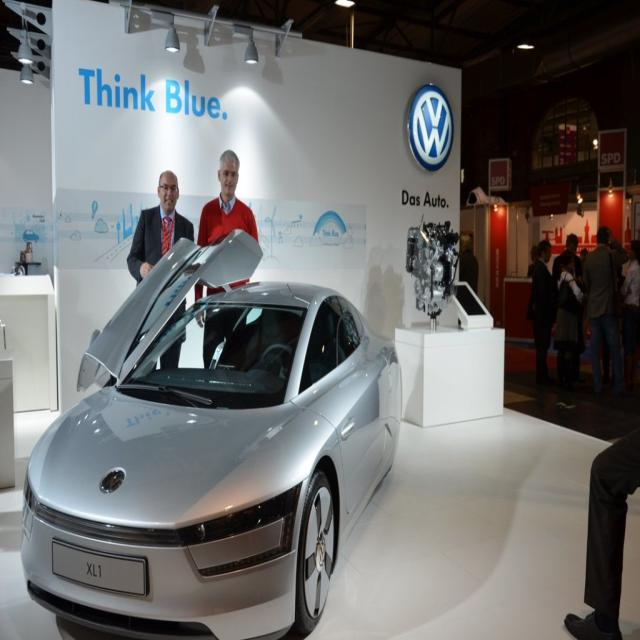car: (19, 228, 401, 638)
